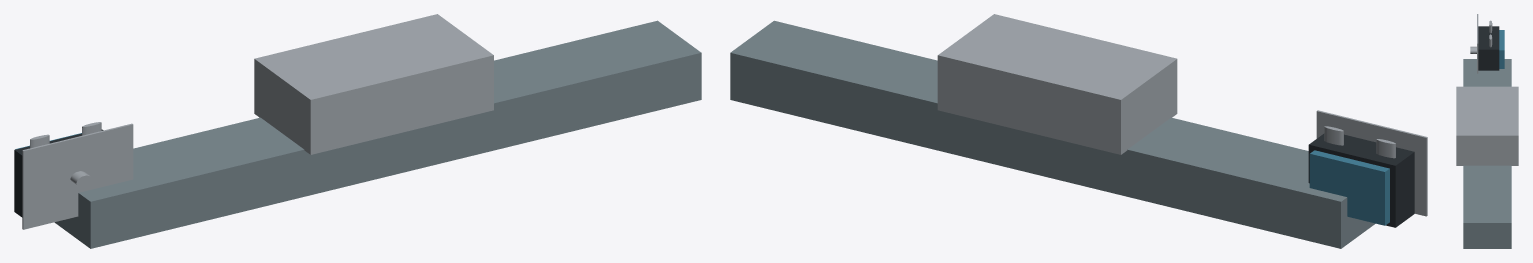
3 views of the same model, side by side, from view 1: azimuth 30°, elevation 25°; view 2: azimuth 150°, elevation 25°; view 3: azimuth 270°, elevation 25° (orthographic). The views are drawn at different scales.
Parts seen in each view (by area): view 1: g0.001, g0, g1, g0.002; view 2: g0.001, g0, g3, g0.002, g1; view 3: g0.001, g0, g0.002, g3, g1, g2.
Part boxes in pixels (x1=…): g0.001: x1=54, y1=20, x2=701, y2=248; g0: x1=254, y1=14, x2=493, y2=154; g1: x1=22, y1=123, x2=133, y2=229; g0.002: x1=14, y1=129, x2=103, y2=217; g0.001: x1=730, y1=20, x2=1375, y2=248; g0: x1=937, y1=14, x2=1177, y2=154; g3: x1=1309, y1=150, x2=1389, y2=225; g0.002: x1=1308, y1=133, x2=1414, y2=227; g1: x1=1316, y1=110, x2=1427, y2=216; g0.001: x1=1463, y1=59, x2=1511, y2=248; g0: x1=1456, y1=86, x2=1518, y2=165; g0.002: x1=1478, y1=26, x2=1499, y2=70; g3: x1=1499, y1=30, x2=1504, y2=68; g1: x1=1477, y1=14, x2=1478, y2=73; g2: x1=1470, y1=46, x2=1476, y2=53.
Bounding box in the file's own units: 1.5 × 0.22 × 0.22.
